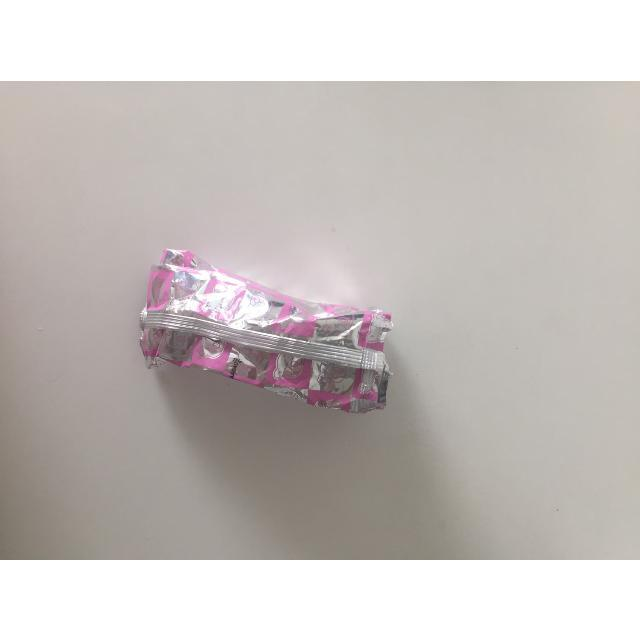Paquete de plastico: (137, 247, 393, 412)
